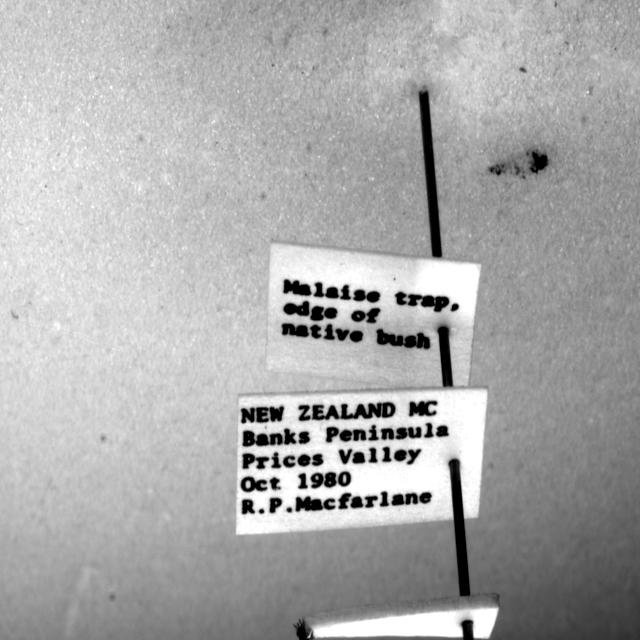typed_label: (236, 388, 488, 534), (266, 242, 481, 388)
